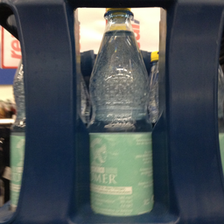water: (87, 7, 154, 217)
